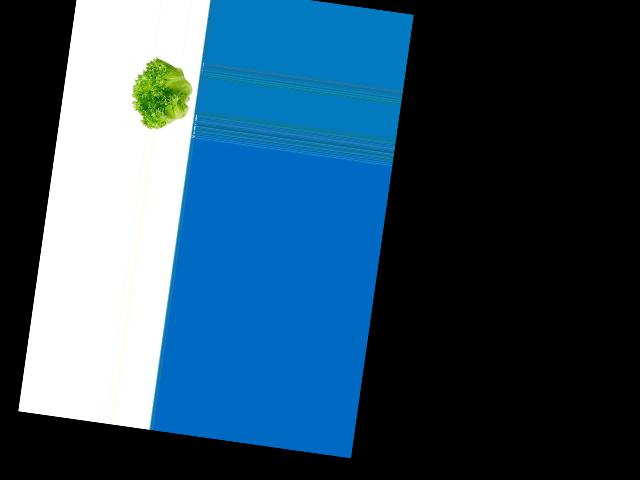lettuce: (125, 56, 199, 134)
